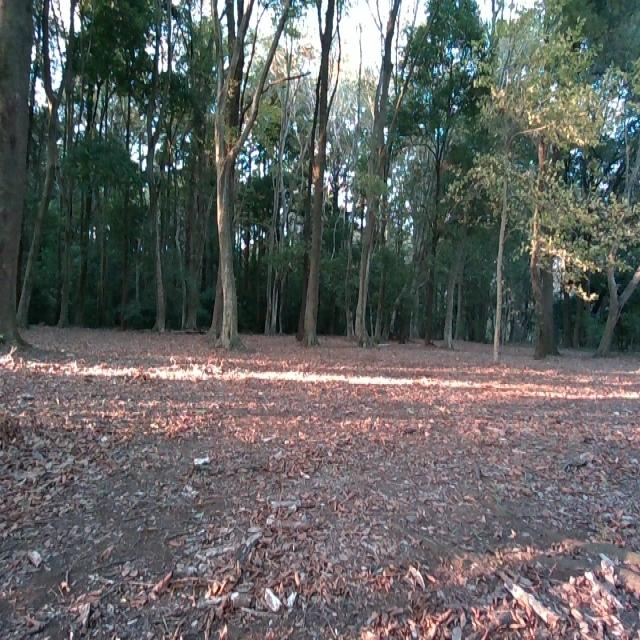tree: (352, 0, 400, 347), (205, 0, 248, 362), (294, 0, 336, 355), (0, 0, 36, 346), (592, 144, 640, 360), (490, 109, 516, 367), (536, 123, 556, 354)
